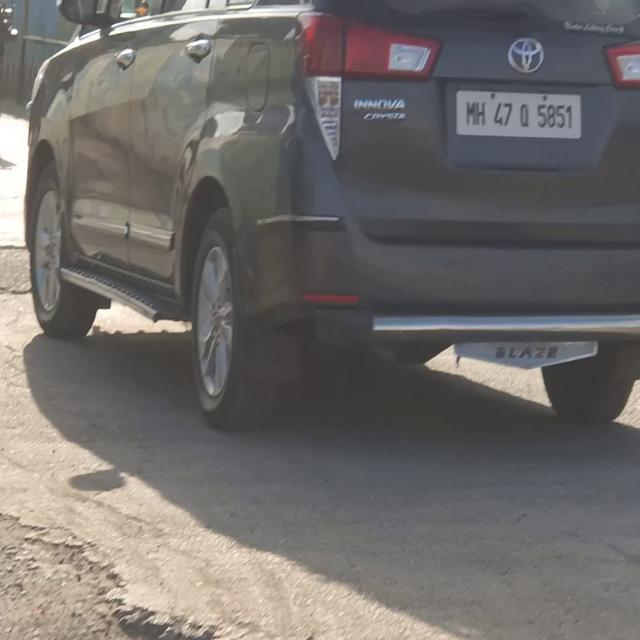Plate: (455, 91, 583, 140)
